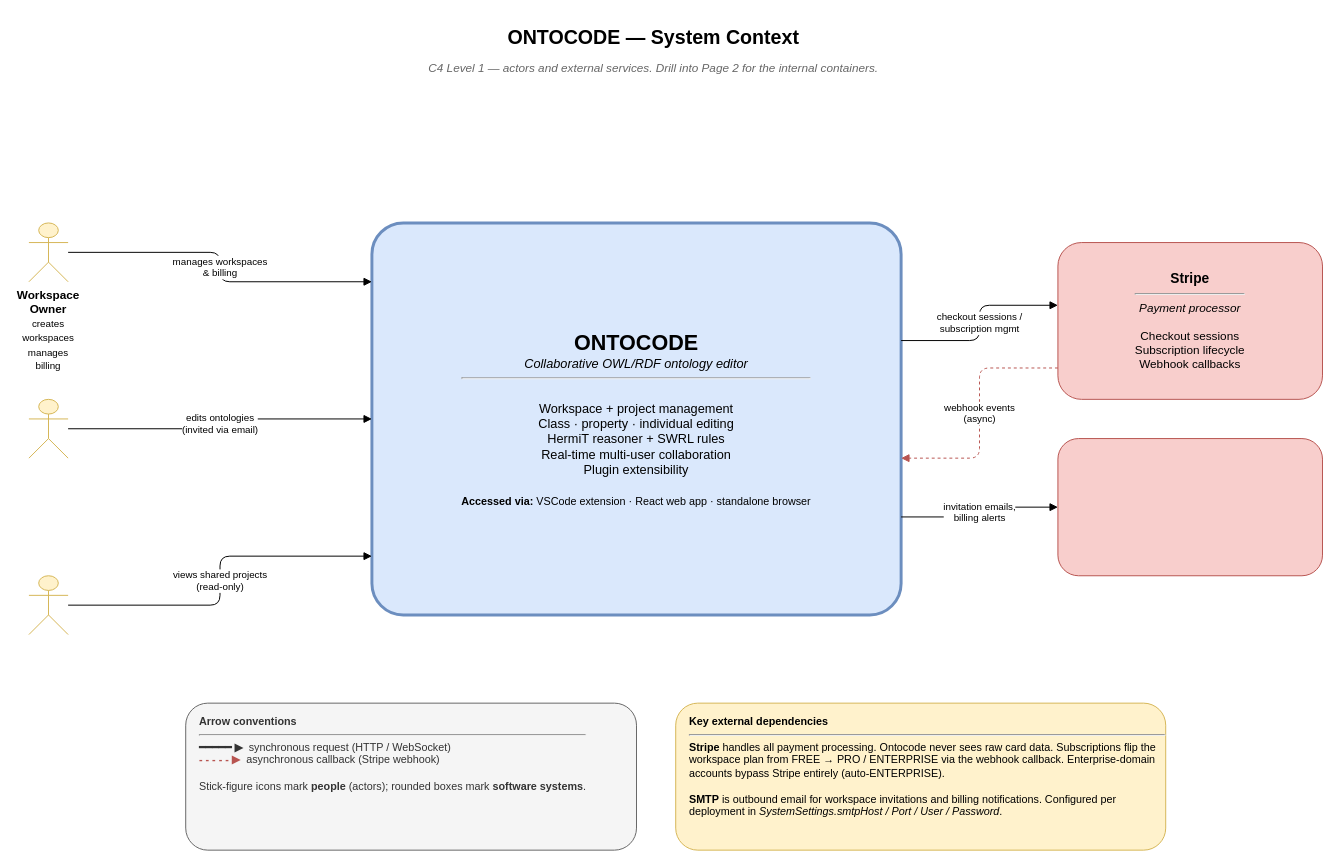
Some shapes in this 1340 by 867 pixel diagram are drawn without their labels. Each missing label, with the centre of its shape:
"SMTP / Email Provider Transactional email Workspace invitations Billing alerts" goes at point (1190, 507).
"Workspace Admin invited collaborator editor on shared projects" goes at point (48, 428).
"Workspace Member viewer / read-only auto-added by visibility" goes at point (48, 605).
